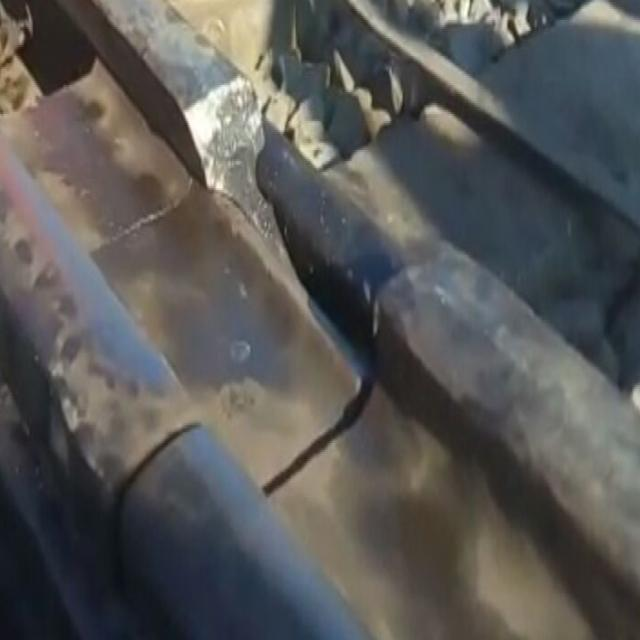corrosion_high: (182, 75, 414, 347)
